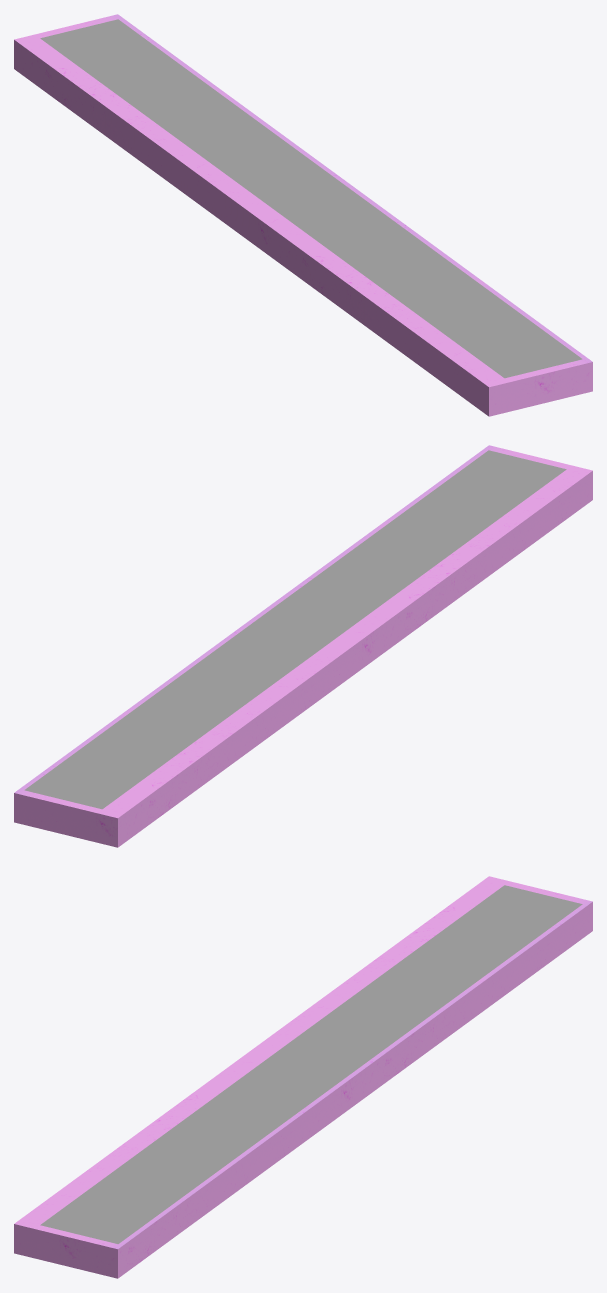
Rendered from 250W1StepStairs_01_SM_Low.fbx.
The picture shows the model from 3 angles, top to bottom: view 1: azimuth 30°, elevation 25°; view 2: azimuth 150°, elevation 25°; view 3: azimuth 330°, elevation 25°; orthographic projection.
Parts seen in each view (by area): view 1: Grate_Geo, StepGratingBase_Geo; view 2: Grate_Geo, StepGratingBase_Geo; view 3: Grate_Geo, StepGratingBase_Geo.
Boxes of the visible parts, left/top/right/bottom form: Grate_Geo: left=40, top=19, right=582, bottom=378; StepGratingBase_Geo: left=14, top=14, right=592, bottom=416; Grate_Geo: left=24, top=450, right=566, bottom=809; StepGratingBase_Geo: left=14, top=445, right=592, bottom=847; Grate_Geo: left=40, top=885, right=582, bottom=1243; StepGratingBase_Geo: left=14, top=876, right=592, bottom=1278.
Bounding box in the file's own units: 30 × 8.12 × 238.
Materials: 2 (1 with a texture image).
